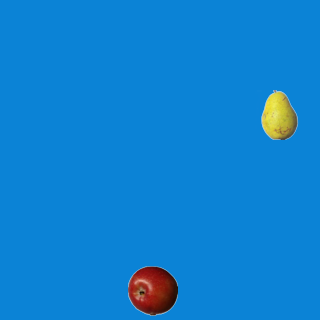Apple Braeburn: (127, 265, 177, 315)
Pear Monster: (254, 89, 304, 139)
